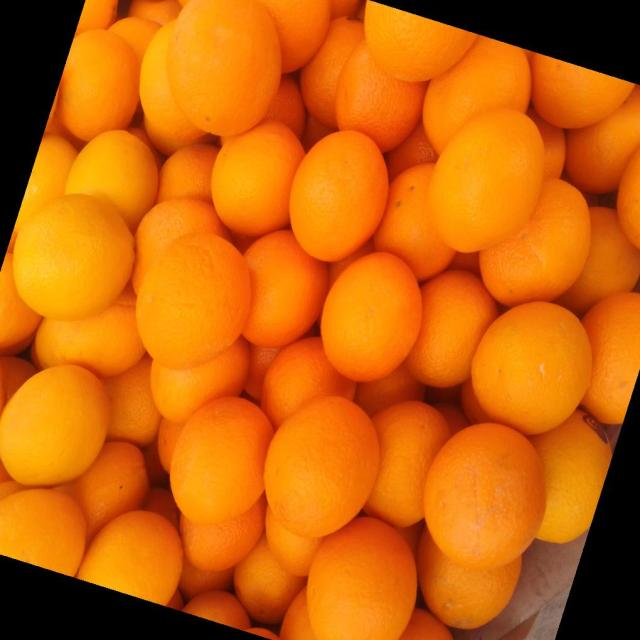fresh orange: (2, 1, 637, 636), (237, 380, 398, 552), (421, 402, 566, 577), (313, 231, 436, 393), (295, 493, 429, 640), (425, 110, 544, 249), (135, 233, 253, 367), (14, 195, 135, 320), (168, 1, 280, 134), (480, 180, 590, 306), (168, 397, 274, 525), (0, 364, 109, 487), (289, 130, 388, 257), (422, 40, 530, 148), (210, 125, 305, 239), (334, 41, 428, 151), (239, 231, 328, 347), (137, 19, 214, 150), (75, 508, 183, 601), (64, 130, 158, 233), (374, 166, 455, 280), (57, 30, 140, 140), (363, 4, 478, 82), (35, 297, 144, 377), (151, 337, 252, 422), (557, 209, 640, 312), (565, 90, 640, 192), (529, 53, 633, 126), (0, 488, 86, 576), (72, 443, 149, 537), (301, 18, 364, 126), (178, 494, 264, 572), (237, 0, 329, 71), (104, 357, 161, 445), (157, 144, 223, 202)
